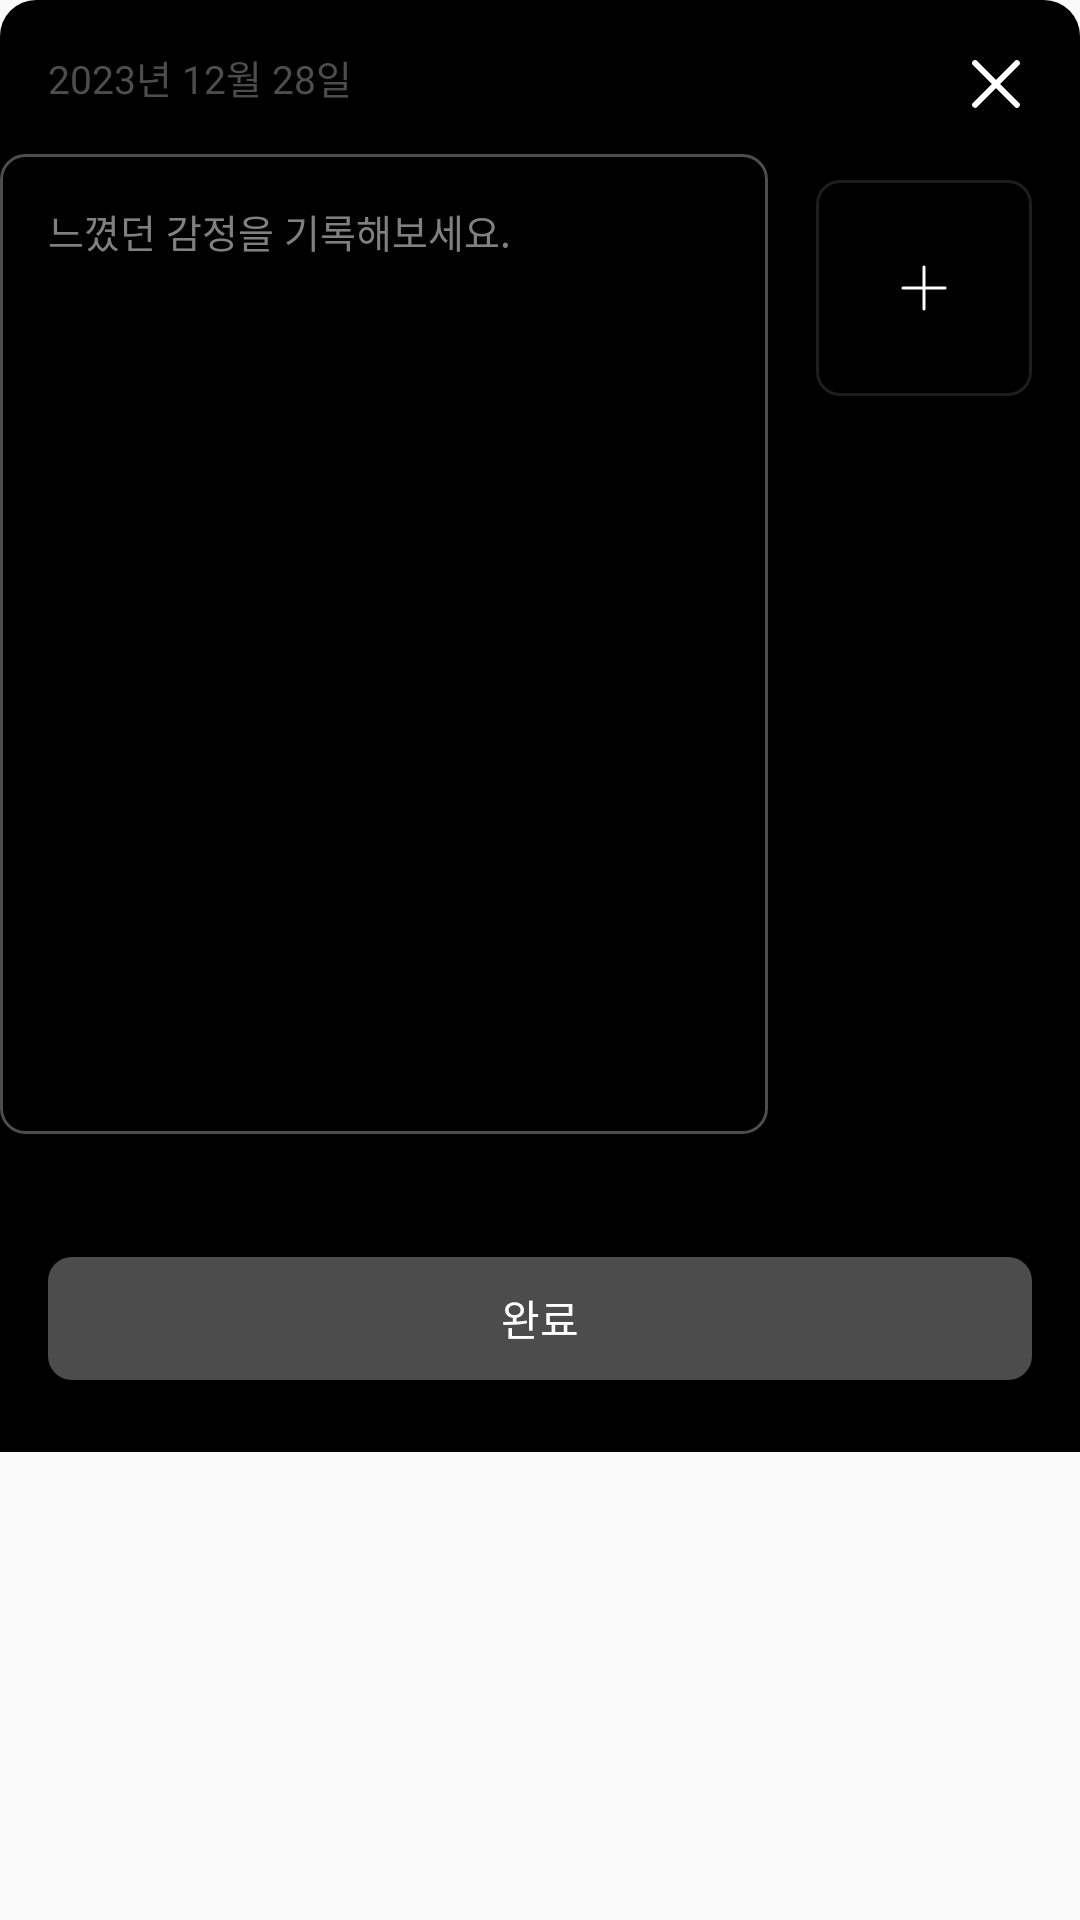

Locate icon controls on the screen. Image size 1080 x 1920, boxes as [x1, y1, x2, y2].
close: [972, 60, 1020, 108]
